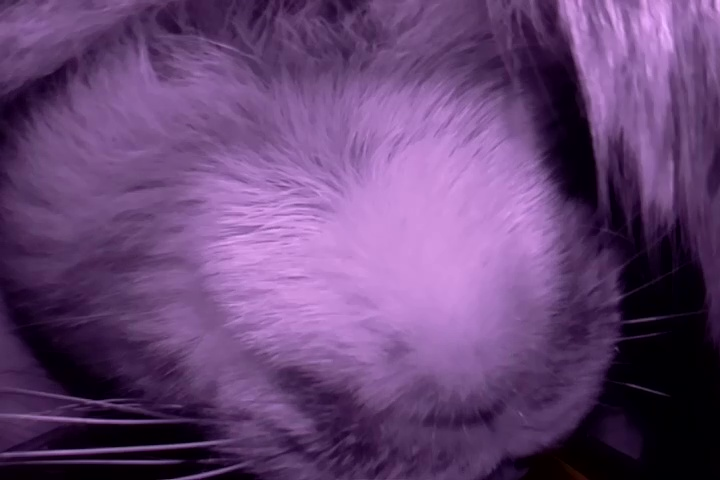Snout: (348, 318, 580, 476)
